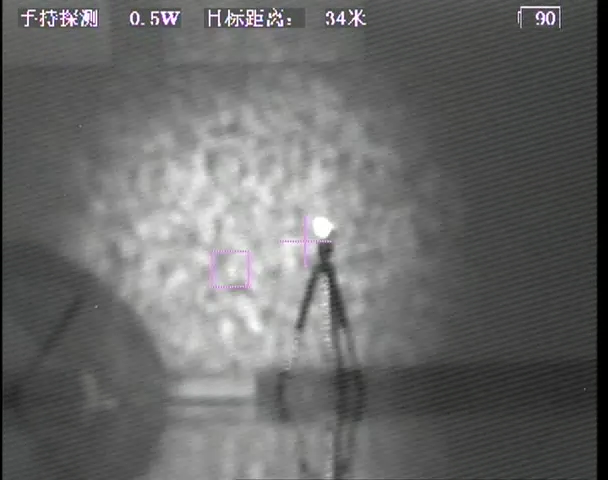my: (310, 214, 334, 241)
